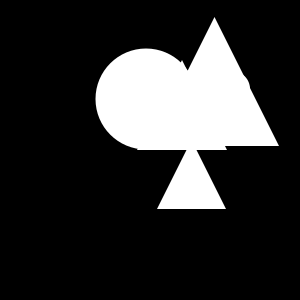rectangle: (96, 49, 196, 150), (214, 71, 250, 107)
triangle: (150, 17, 279, 146), (137, 60, 227, 150), (157, 140, 226, 209)
